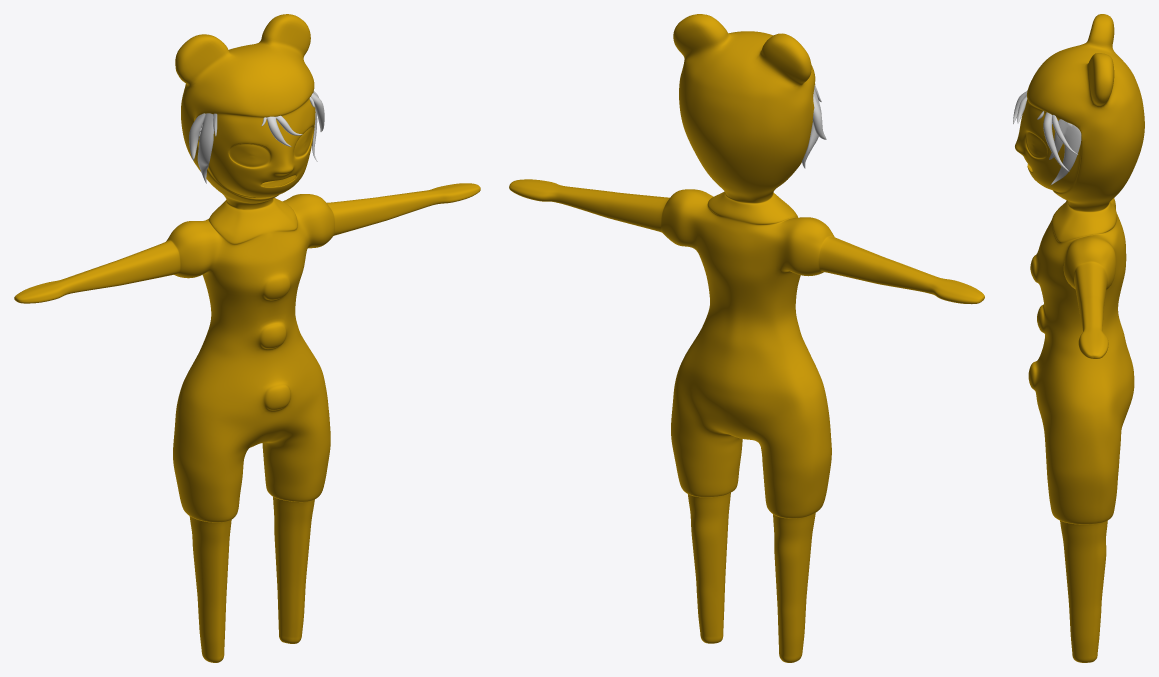
File: DollAnimalCostume.fbx
3 views of the same model, side by side, from view 1: azimuth 30°, elevation 25°; view 2: azimuth 150°, elevation 25°; view 3: azimuth 270°, elevation 25° (orthographic). The views are drawn at different scales.
Parts seen in each view (by area): view 1: Body, hair1; view 2: Body; view 3: Body, hair1.
Boxes of the visible parts, x1=… form: Body: x1=14, y1=14, x2=480, y2=662; hair1: x1=189, y1=90, x2=324, y2=183; Body: x1=509, y1=14, x2=984, y2=662; Body: x1=1015, y1=14, x2=1144, y2=662; hair1: x1=1013, y1=90, x2=1081, y2=184.
Bounding box in the file's own units: 1435 × 1833 × 361.
